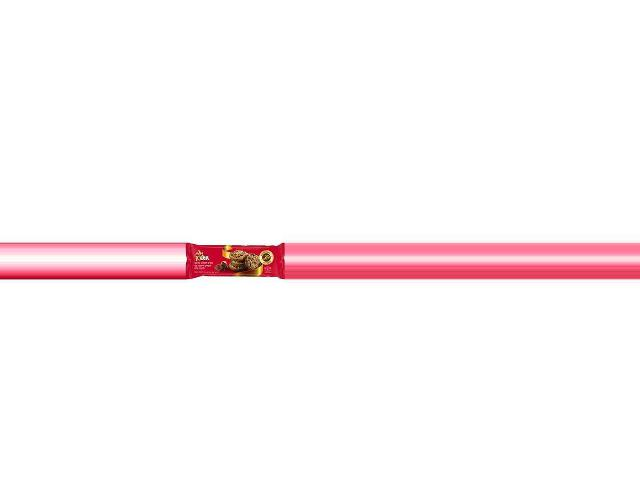chocolate: (184, 244, 282, 282)
